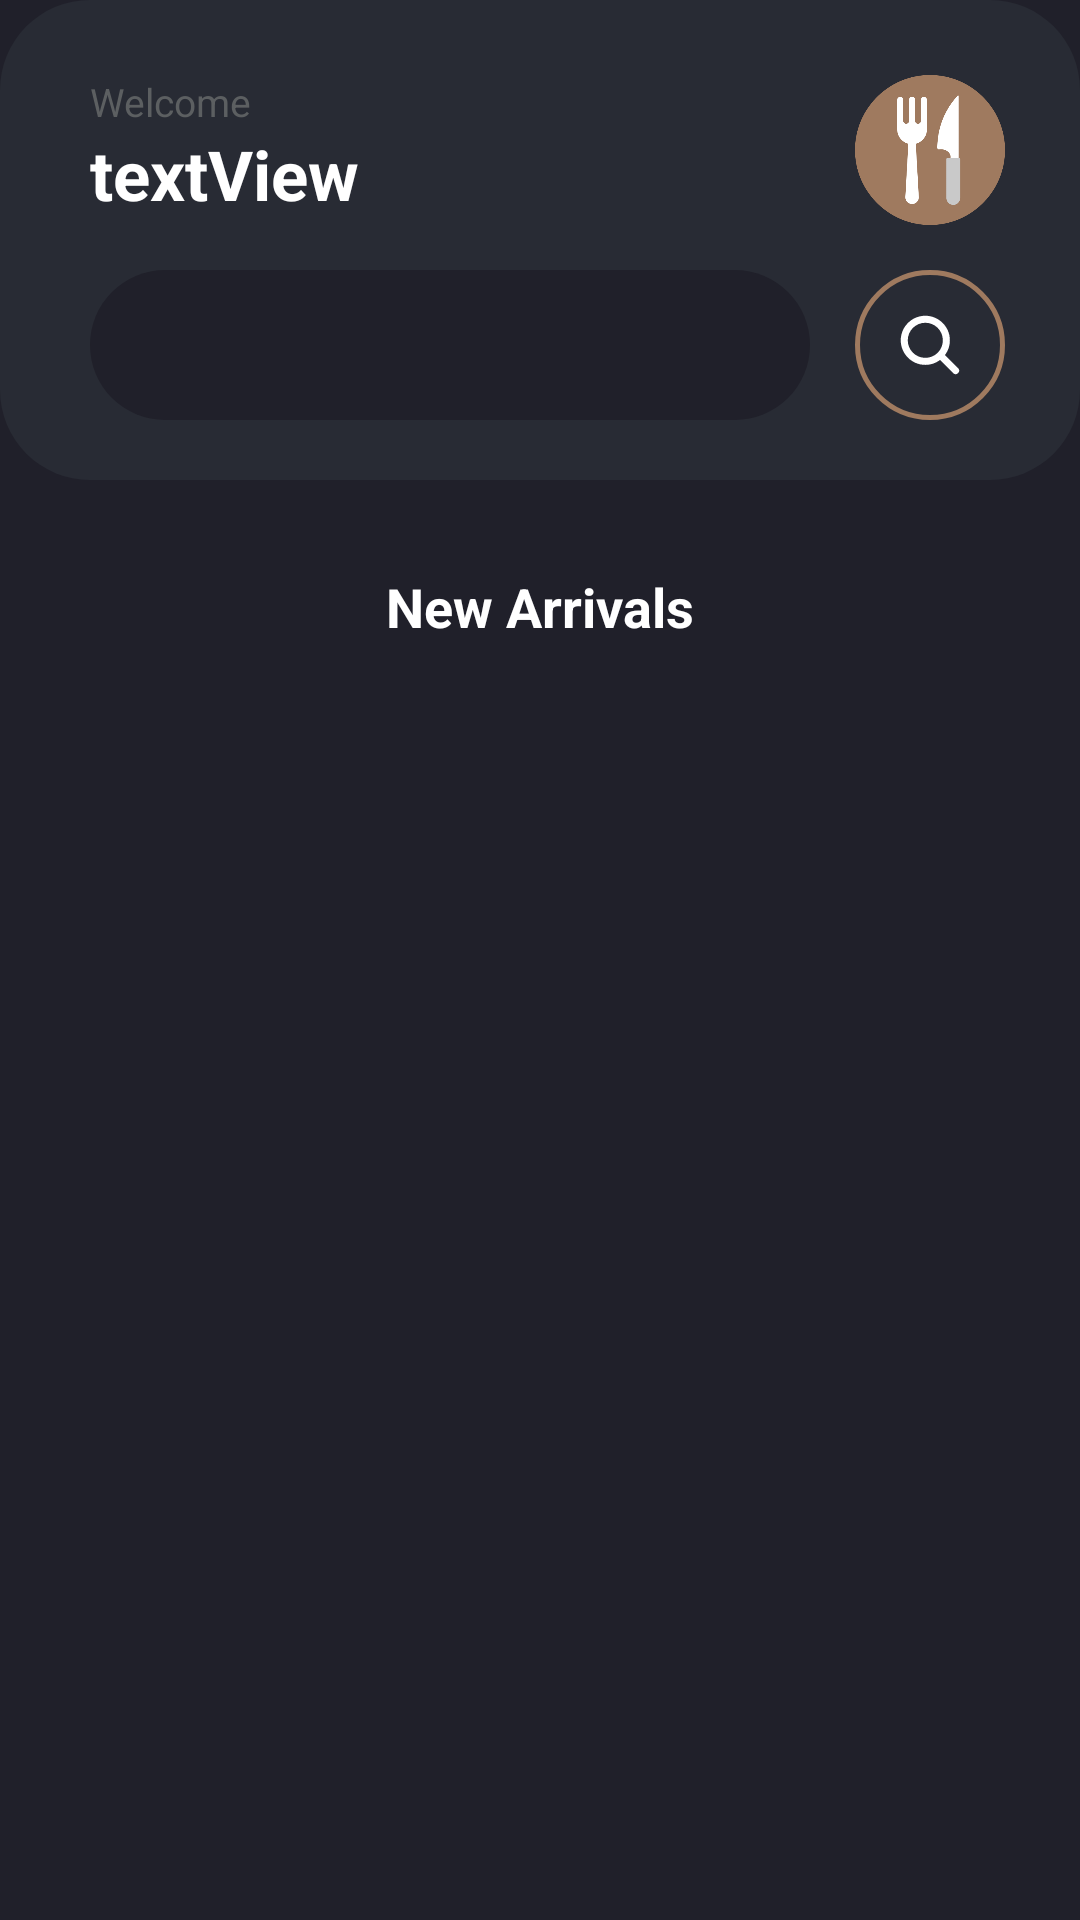

Named icons in this screenshot (1080px×1920px) and their bounding boxes, (x1, y1, x2, y2):
search: (855, 270, 1005, 420)
